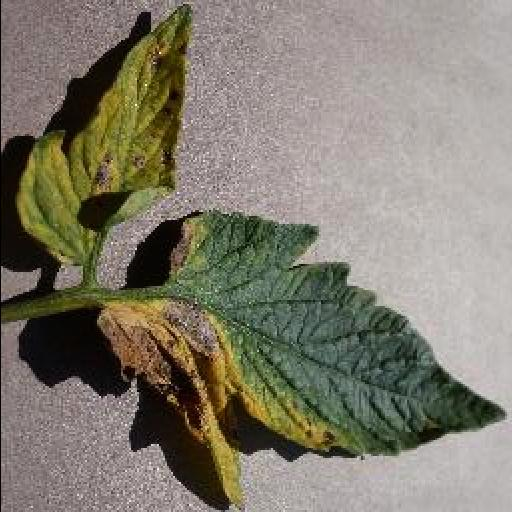disease_tomato: (90, 210, 508, 512)
